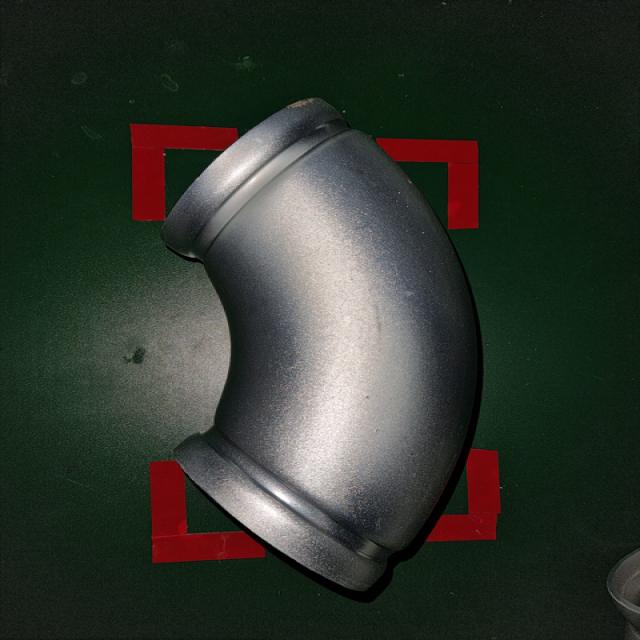Normal: (149, 88, 497, 605)
